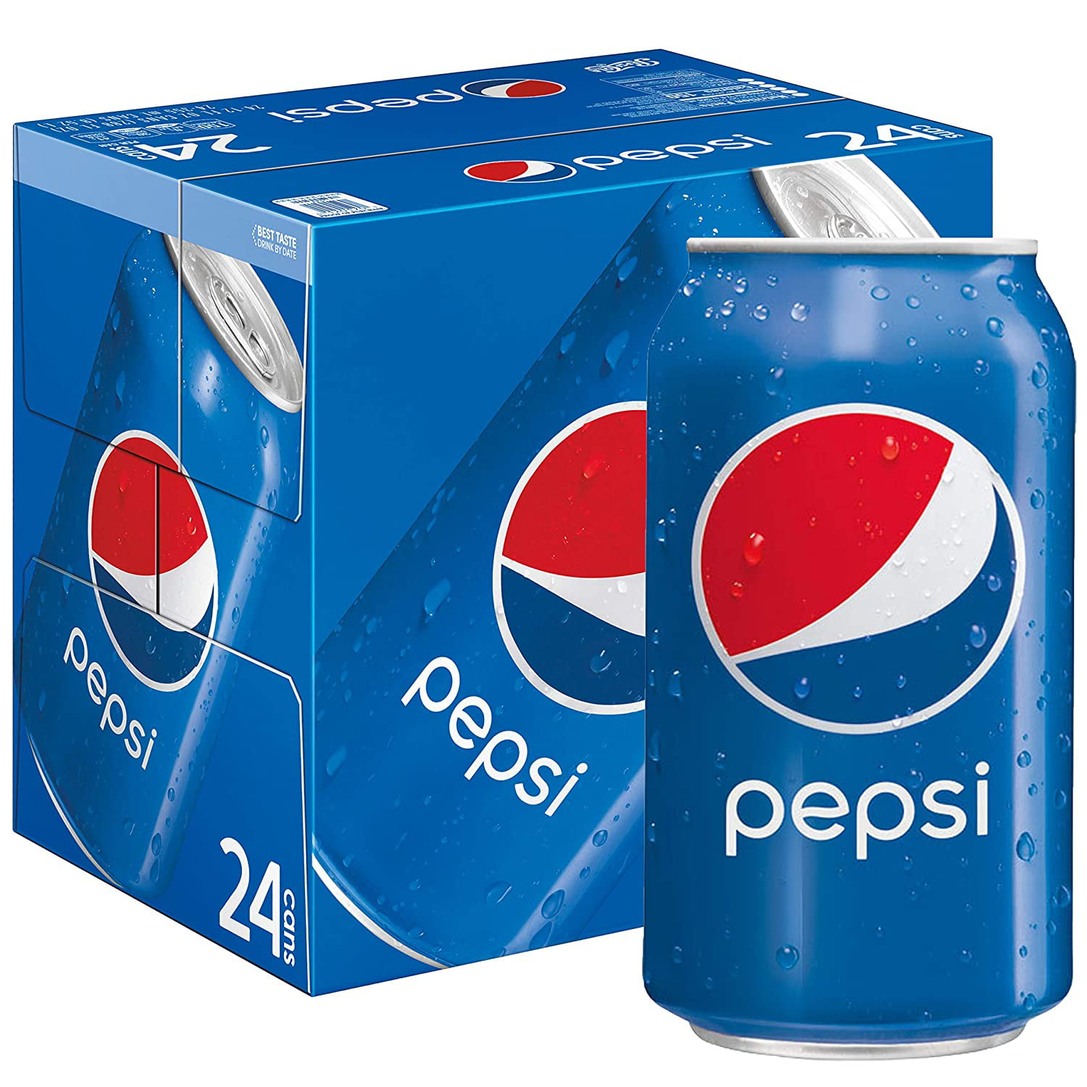cylinder: (646, 238, 1075, 1061)
